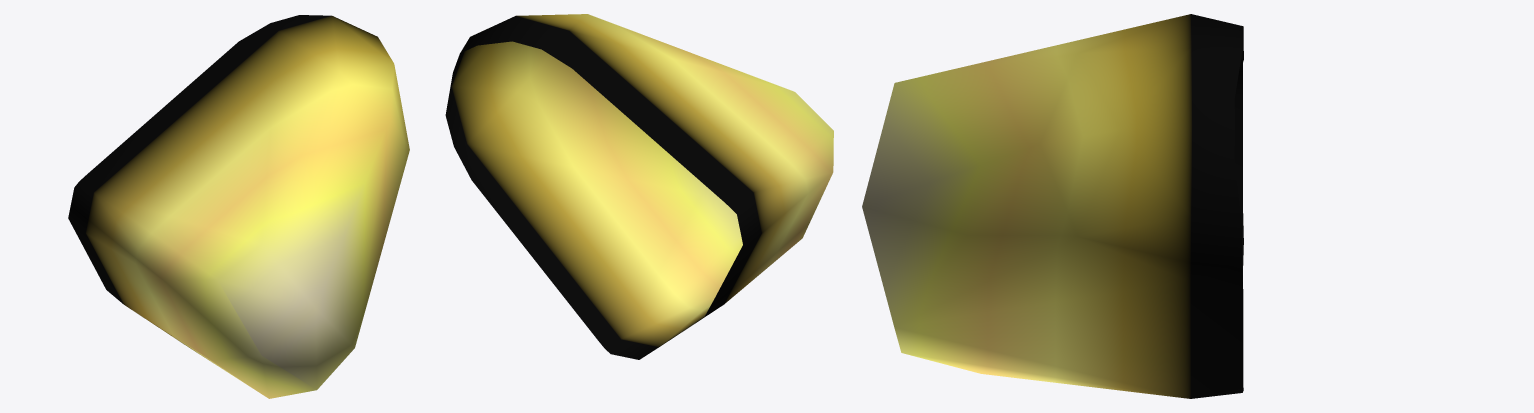
Rendered from wOnigiri.fbx.
3 renders of one model, left to right at view 1: azimuth 30°, elevation 25°; view 2: azimuth 150°, elevation 25°; view 3: azimuth 270°, elevation 25°, orthographic. The views are drawn at different scales.
Parts seen in each view (by area): view 1: mPartsA_D; view 2: mPartsA_D; view 3: mPartsA_D.
Part boxes in pixels (<box>): mPartsA_D: <box>68,15,409,398</box>; mPartsA_D: <box>445,14,833,359</box>; mPartsA_D: <box>862,14,1243,398</box>.
Bounding box in the file's own units: 0.1383 × 0.1269 × 0.1786.
